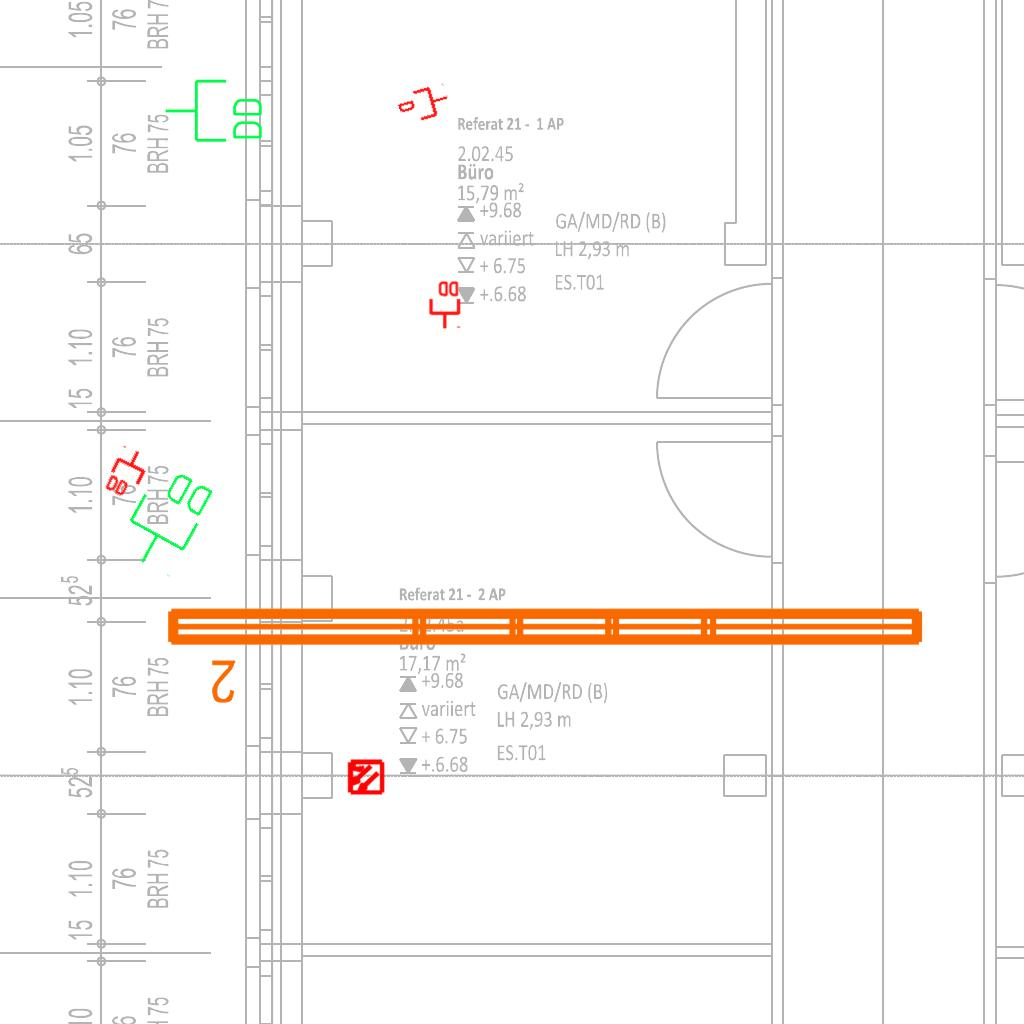Ambulanz_Pendelleuchte_LED: (159, 596, 933, 708)
Datenanschluss_einfach: (395, 80, 453, 128)
Datenanschluss_zweifach: (111, 457, 222, 582), (163, 77, 266, 146), (101, 443, 155, 504), (427, 279, 461, 330)
OT_Multisensormelder_(Kombination_RMO_WMD): (337, 749, 393, 805)
